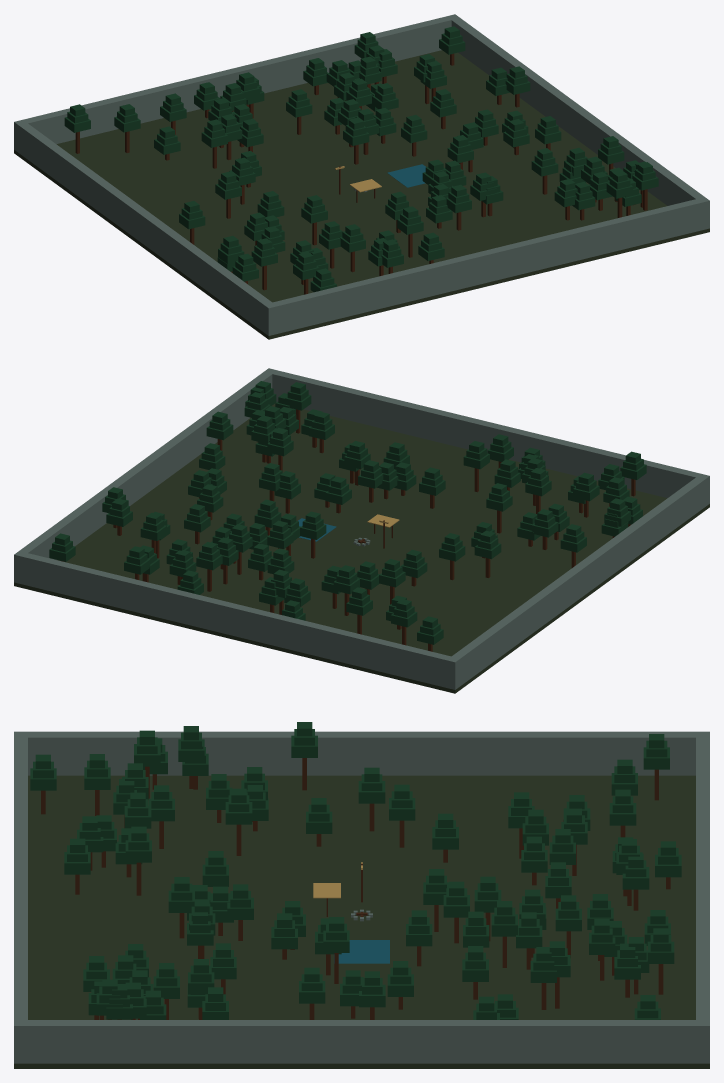
The model's file is Forest.obj.
The picture shows the model from 3 angles, top to bottom: view 1: azimuth 30°, elevation 25°; view 2: azimuth 150°, elevation 25°; view 3: azimuth 270°, elevation 25°; orthographic projection. The views are drawn at different scales.
Visible parts, largest first — view 1: earth, rock, leaf, wood, water; view 2: earth, rock, leaf, wood; view 3: earth, rock, leaf, wood, water.
Boxes of the visible parts, x1,y1,x2,y2 form: earth: [14, 50, 709, 339]; rock: [14, 14, 709, 335]; leaf: [64, 26, 658, 292]; wood: [75, 53, 647, 294]; water: [387, 164, 425, 187]; earth: [14, 403, 709, 693]; rock: [14, 368, 709, 689]; leaf: [49, 381, 646, 644]; wood: [60, 409, 635, 651]; earth: [14, 775, 709, 1068]; rock: [14, 731, 709, 1063]; leaf: [30, 722, 681, 1019]; wood: [41, 758, 670, 1019]; water: [334, 940, 389, 963].
Size of the model in its own units: 100 by 11.2 by 100.
